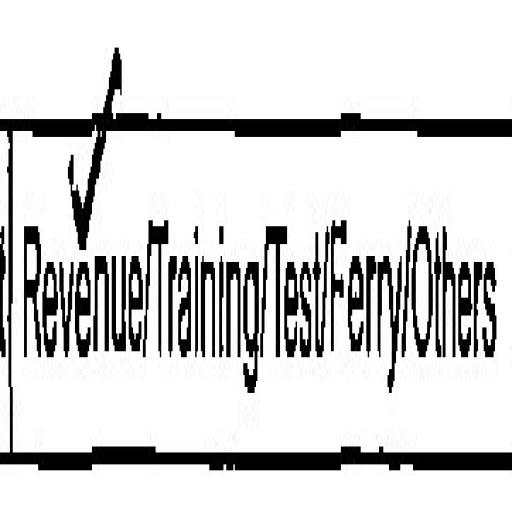check: (6, 0, 148, 512)
